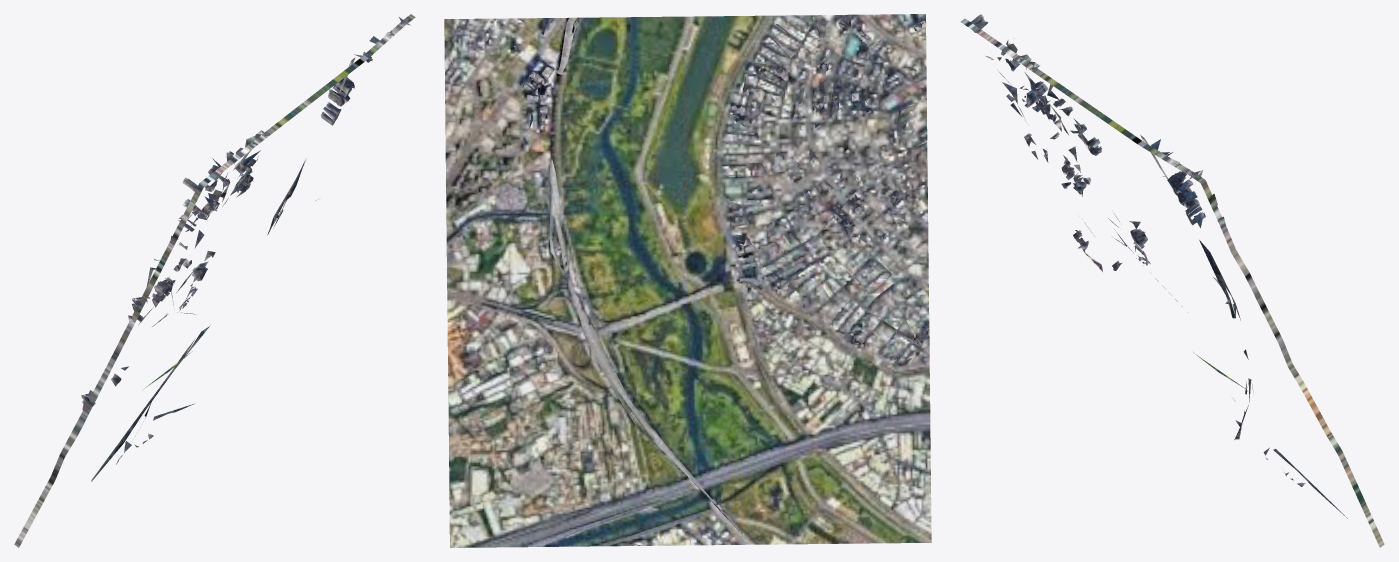
The picture shows the model from 3 angles, left to right: view 1: azimuth 30°, elevation 25°; view 2: azimuth 150°, elevation 25°; view 3: azimuth 270°, elevation 25°; orthographic projection. The views are drawn at different scales.
Bounding box in the file's own units: 2441 × 2244 × 2069.
1 material, 1 textured.
